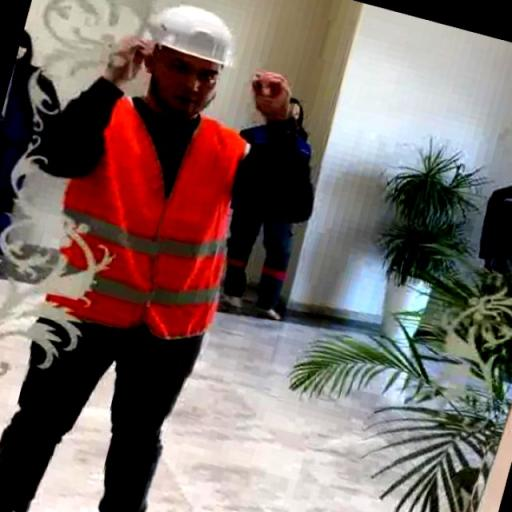Person: (34, 9, 310, 508)
helmet: (150, 4, 238, 66)
vest: (58, 93, 256, 346)
